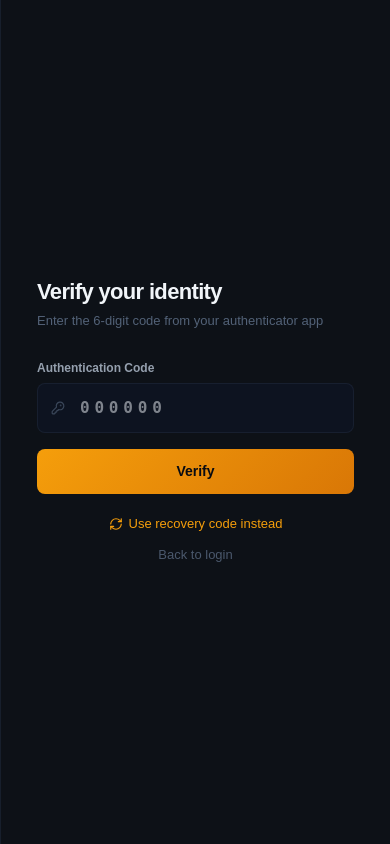
Test case: MfaChallenge Component › should switch to recovery code mode when toggled
The width and height of the screenshot is (390, 844).
Click the button "Use recovery code instead".
click(196, 524)  # box [37, 514, 354, 533]
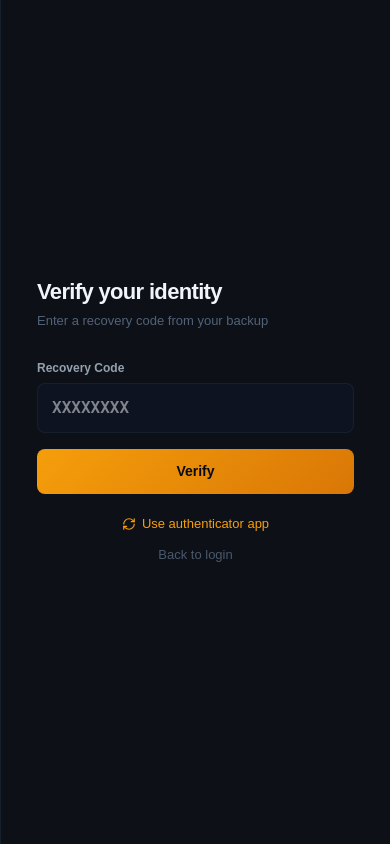
Expected: the field with placeholder "XXXXXXXX" is shown, [37, 383, 354, 433]
